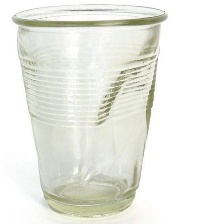glass: (10, 2, 170, 220)
